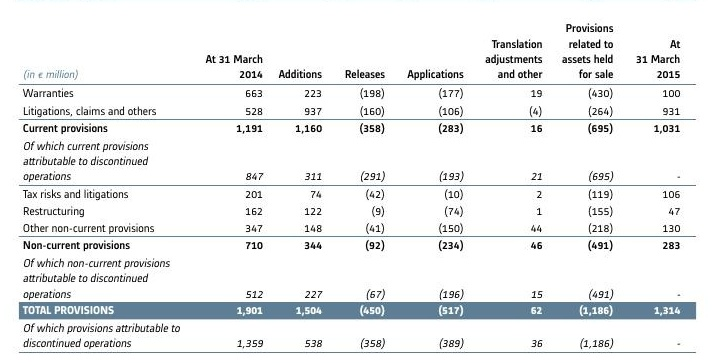table: (0, 0, 712, 363)
